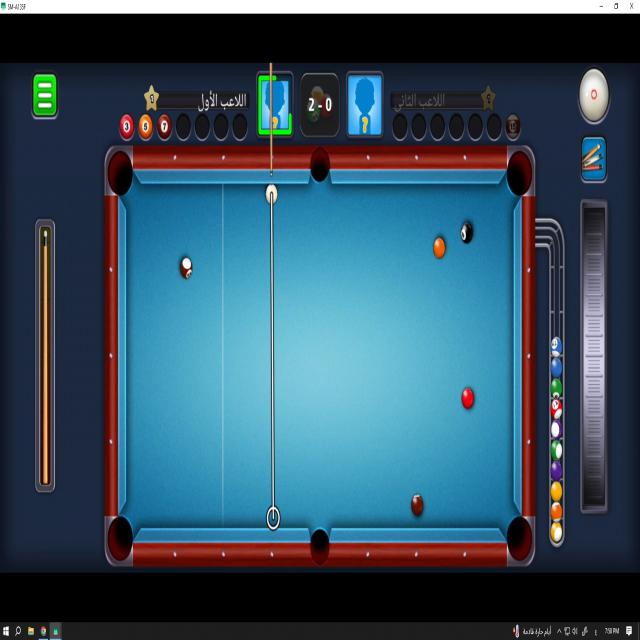object_ball: (181, 258, 192, 279), (461, 223, 472, 243), (412, 495, 423, 515), (462, 388, 473, 408), (434, 238, 444, 258)
white_cue_ball: (265, 184, 278, 205)
